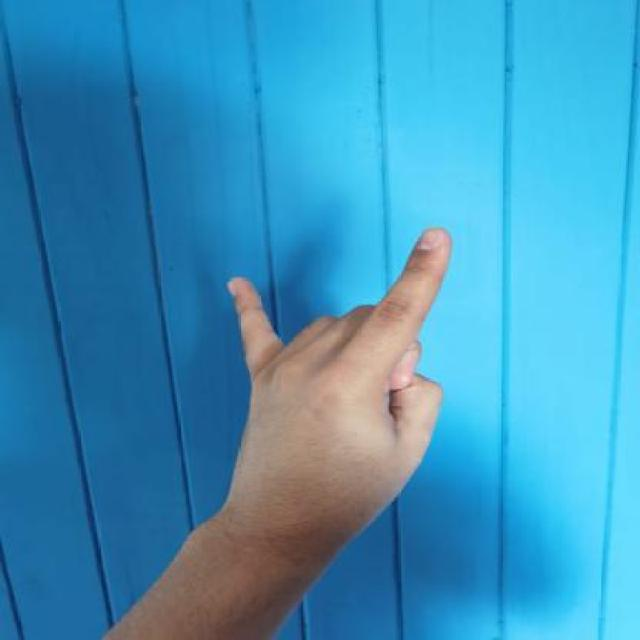U: (223, 224, 454, 504)
